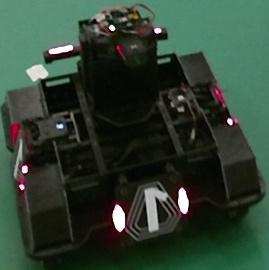armor_1: (112, 187, 189, 232)
front_1: (125, 181, 181, 241)
